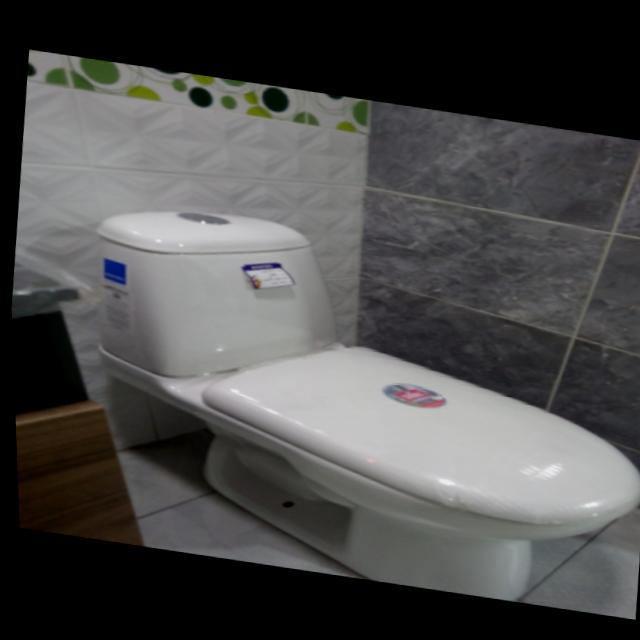toilet: (61, 191, 640, 613)
